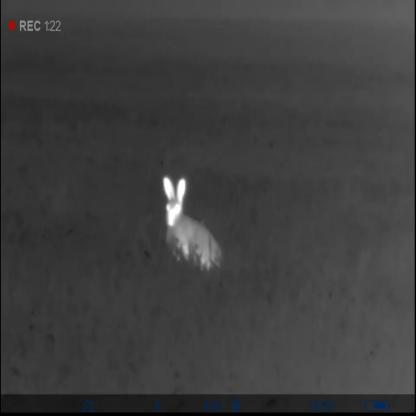rehkitze: (157, 175, 225, 274)
